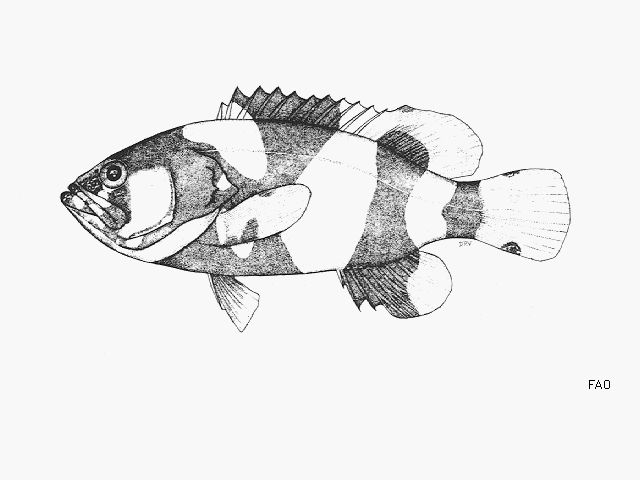fish: (60, 86, 571, 333)
